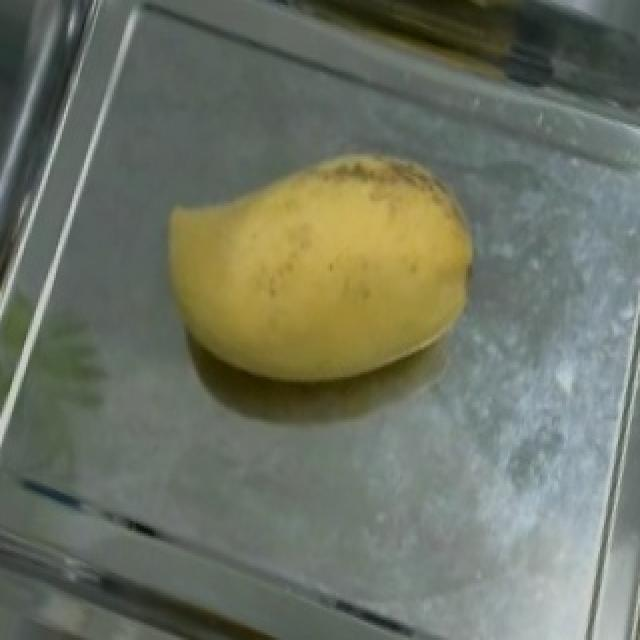fruit: (124, 99, 512, 437)
